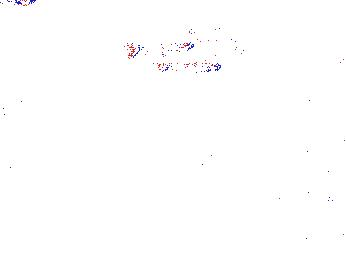X-ray fish: (23, 1, 79, 38)
glassfish: (172, 128, 263, 194)
redtail glassfish: (184, 25, 249, 56), (126, 36, 194, 61), (154, 58, 224, 77)
